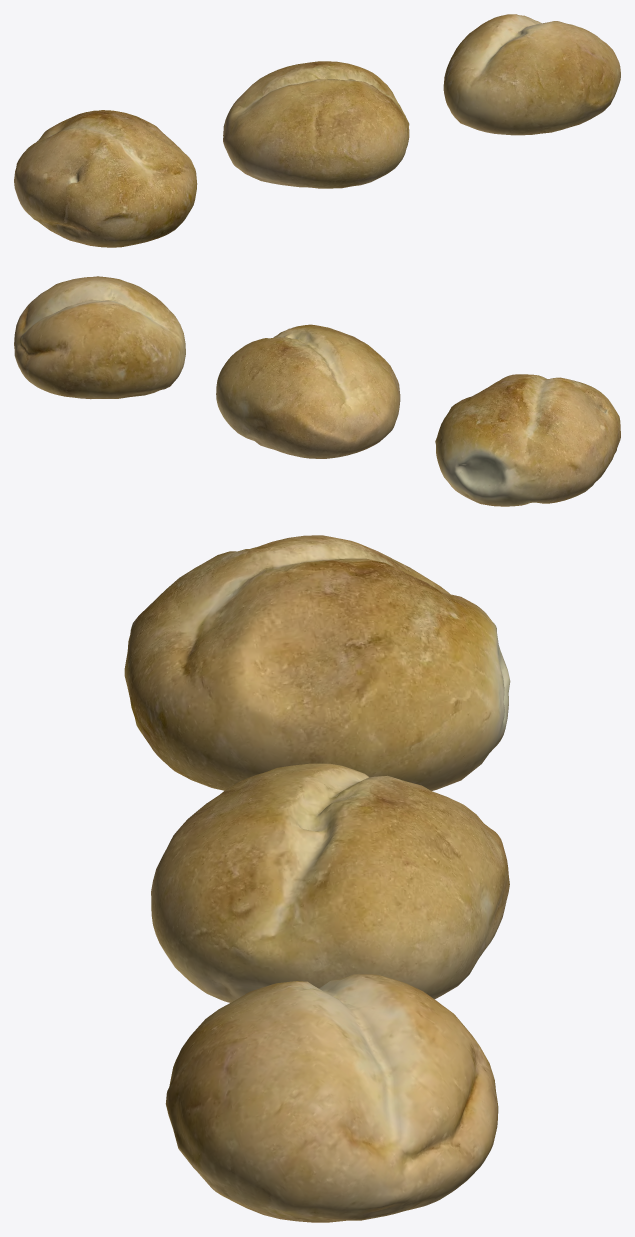
The model's file is hamburger_buns.glb.
3 views of the same model, one above another, from view 1: azimuth 30°, elevation 25°; view 2: azimuth 150°, elevation 25°; view 3: azimuth 270°, elevation 25° (orthographic). The views are drawn at different scales.
Visible parts, largest first — view 1: hamburger_buns_01; view 2: hamburger_buns_01; view 3: hamburger_buns_01.
Boxes of the visible parts, x1,y1,x2,y2 form: hamburger_buns_01: (14,14,620,247); hamburger_buns_01: (14,276,620,506); hamburger_buns_01: (124,535,510,1222).
Bounding box in the file's own units: 0.3972 × 0.0634 × 0.1138.
1 material, 1 textured.
